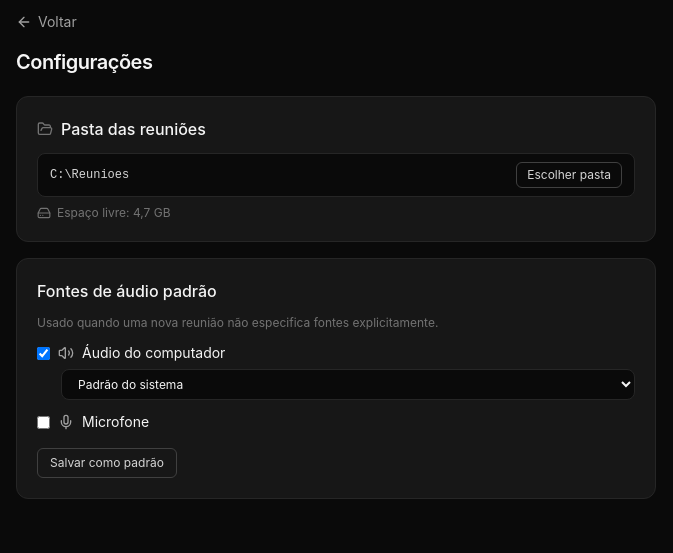
Settings › carrega as fontes padrao e salva as alteracoes como preferencia
The image size is (673, 553).
Expected: the checkbox labelled "Áudio do computador" is checked, [37,346,50,360]
Click the checkbox labelled "Microfone": (44, 422) [37,416,50,428]
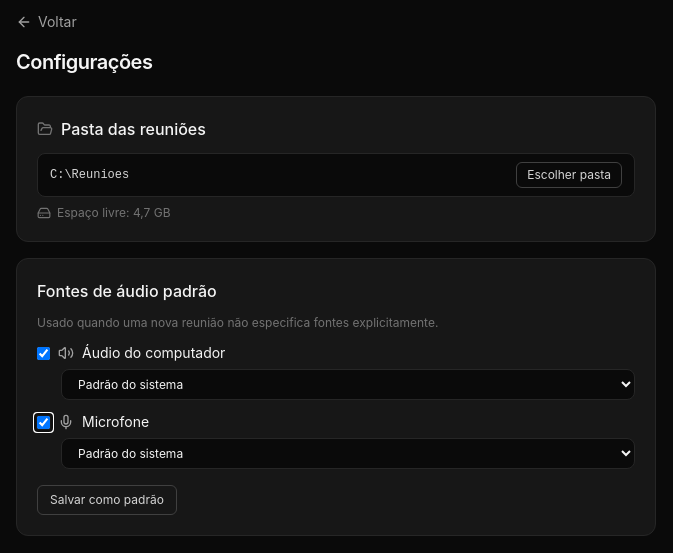
Click the button "Salvar como padrão": (107, 500) [37,485,177,515]
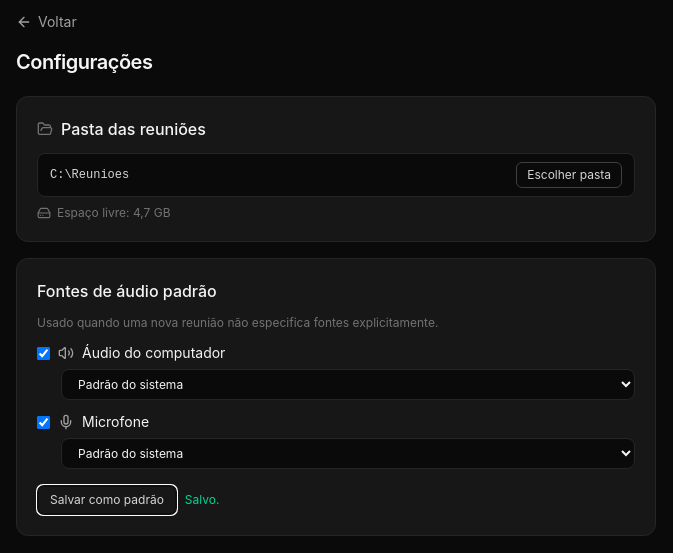
Expected: the text "Salvo." is shown, [185,492,220,507]
